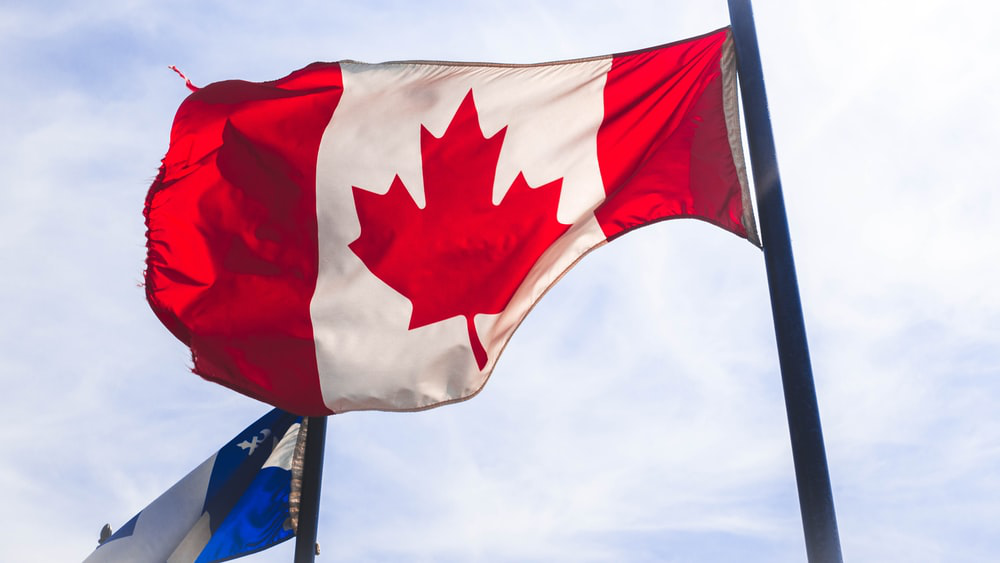Canada flag: (142, 25, 761, 417)
